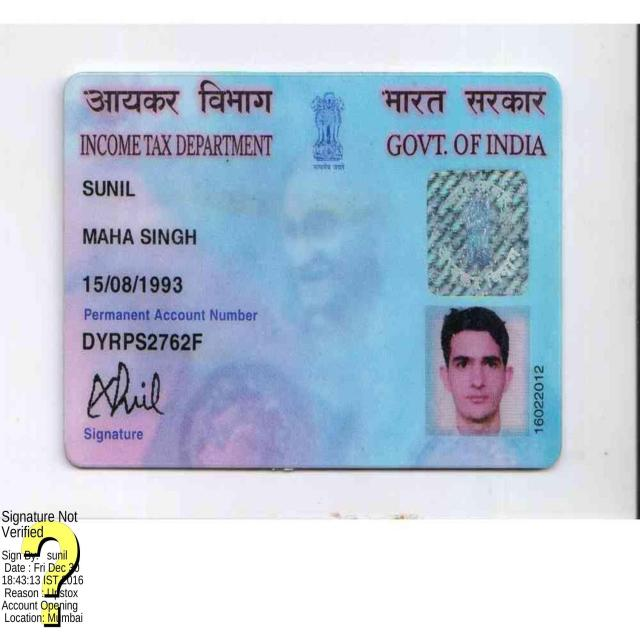pan_card: (67, 78, 560, 462)
